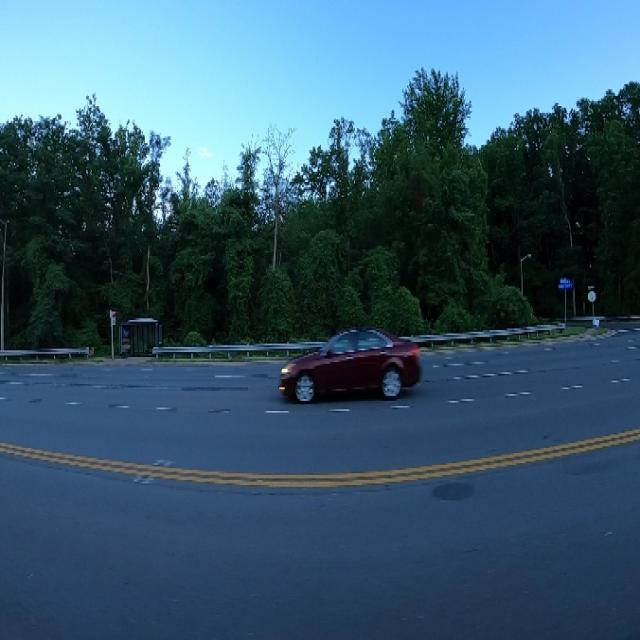cars: (282, 318, 424, 410)
